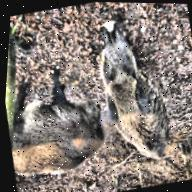boar: (71, 3, 190, 173), (0, 82, 119, 186)
